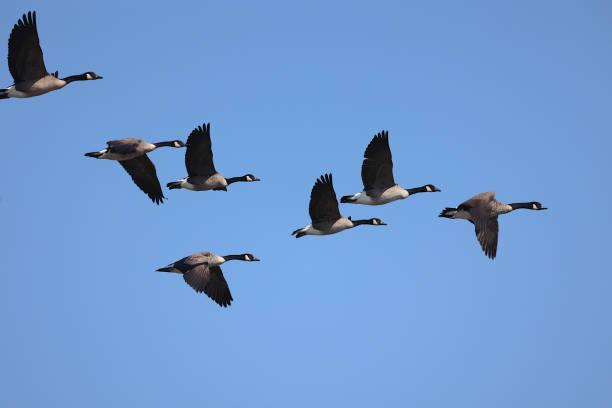Canadian-Goose: (0, 8, 106, 109), (437, 185, 556, 267), (285, 174, 398, 256), (339, 131, 447, 210), (173, 117, 261, 207), (155, 234, 263, 307), (83, 127, 182, 197)
